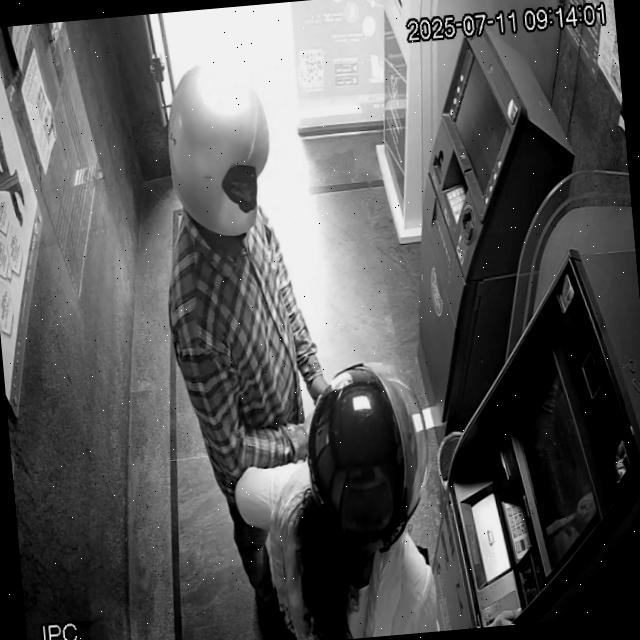helmet: (307, 359, 430, 555), (167, 58, 269, 235)
